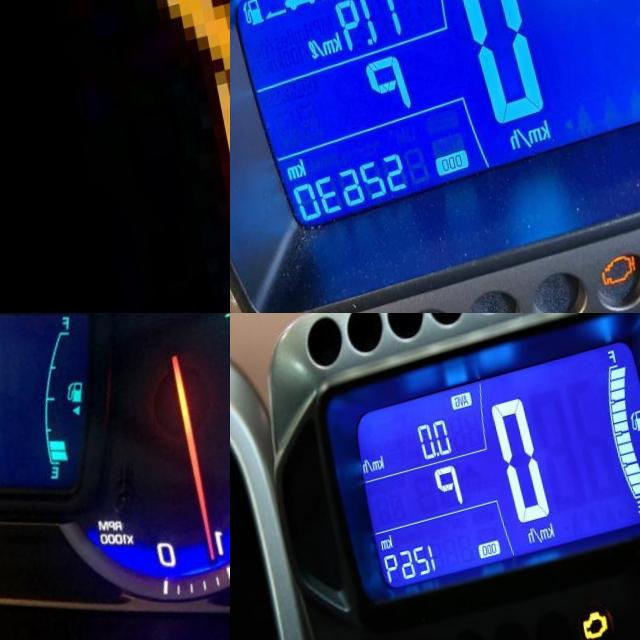LaneCenteringOff: (125, 0, 230, 289)
SideLamp: (212, 322, 230, 351)
